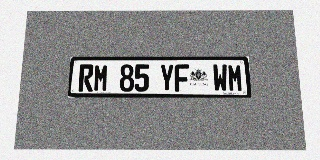5: (134, 64, 149, 92)
8: (119, 64, 134, 92)
F: (174, 64, 189, 92)
M: (93, 64, 109, 92), (227, 64, 243, 92)
R: (78, 64, 94, 92)
W: (212, 64, 228, 92)
Y: (160, 64, 174, 92)
